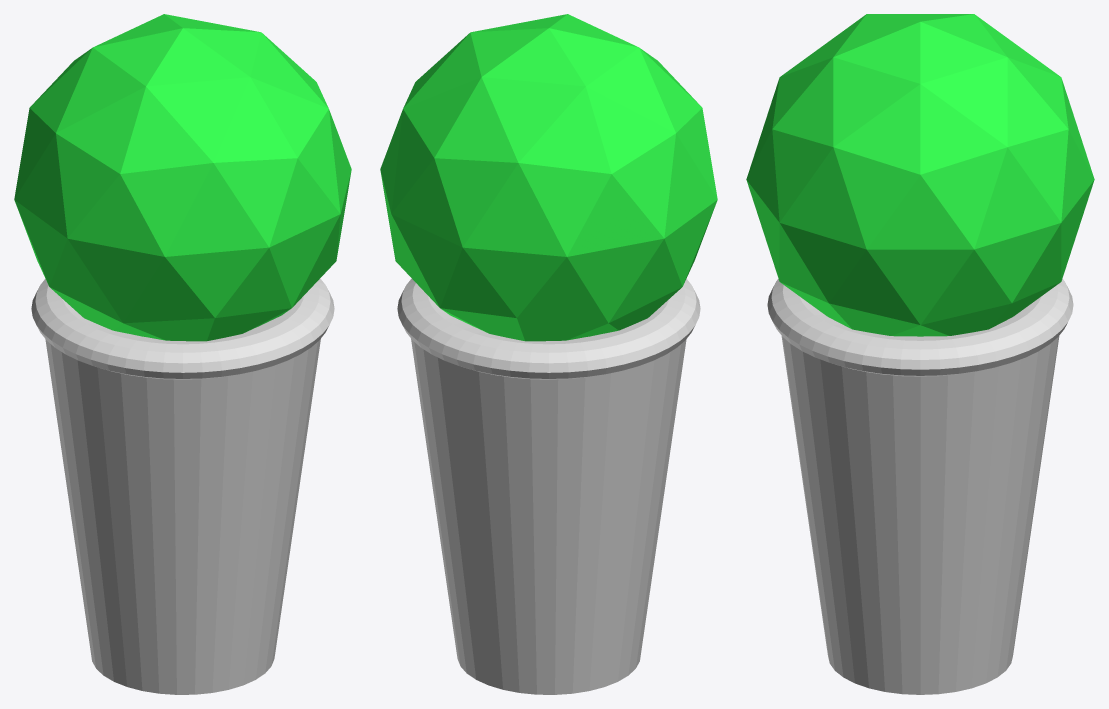
File: plant5.gltf
3 views of the same model, side by side, from view 1: azimuth 30°, elevation 25°; view 2: azimuth 150°, elevation 25°; view 3: azimuth 270°, elevation 25° (orthographic).
Visible parts, largest first — view 1: Icosphere, Cylinder, Torus; view 2: Icosphere, Cylinder, Torus; view 3: Icosphere, Cylinder, Torus.
Boxes of the visible parts, x1,y1,x2,y2 form: Icosphere: (14,14,351,341); Cylinder: (45,339,320,694); Torus: (31,278,334,379); Icosphere: (380,14,717,341); Cylinder: (411,339,686,694); Torus: (397,278,700,379); Icosphere: (746,14,1094,336); Cylinder: (781,336,1059,694); Torus: (767,279,1073,376).
Bounding box in the file's own units: 1.76 × 3.71 × 1.85.
